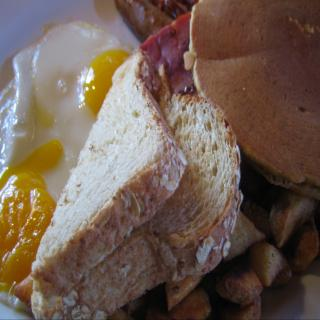Bread: (32, 94, 240, 320)
